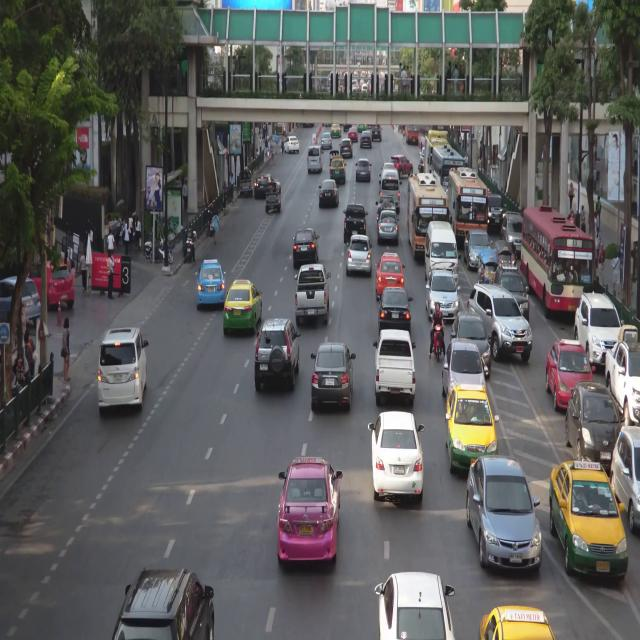bus: (522, 207, 596, 319), (406, 173, 451, 261), (448, 167, 489, 250), (432, 145, 468, 204), (418, 129, 448, 174)
car: (466, 452, 546, 577), (117, 567, 216, 640), (371, 570, 453, 640), (469, 279, 533, 361), (369, 410, 424, 503), (566, 381, 619, 468), (98, 325, 147, 417), (604, 326, 640, 420), (256, 317, 300, 390), (578, 295, 620, 370), (375, 333, 418, 403), (313, 336, 351, 414), (614, 423, 640, 527), (26, 252, 73, 309), (443, 343, 487, 402), (451, 313, 490, 375), (494, 263, 532, 326), (425, 223, 460, 283), (0, 274, 40, 326), (296, 264, 331, 320), (379, 284, 413, 334), (425, 271, 458, 317), (292, 223, 320, 265), (503, 206, 524, 261), (465, 229, 492, 271), (345, 200, 369, 241), (346, 235, 372, 272), (493, 239, 514, 283), (477, 248, 498, 290), (377, 203, 398, 243), (487, 190, 507, 232), (381, 173, 400, 213), (266, 183, 285, 217), (255, 173, 279, 198), (353, 157, 373, 185), (392, 154, 414, 178), (306, 146, 323, 175), (238, 167, 254, 195), (320, 182, 339, 204), (282, 134, 300, 154), (381, 160, 396, 180), (339, 140, 354, 158), (361, 131, 372, 149), (371, 123, 382, 141), (348, 127, 358, 142), (322, 134, 332, 148)
pedestrian: (61, 316, 73, 386), (612, 249, 624, 297), (24, 332, 34, 379), (106, 254, 116, 300), (80, 249, 90, 293), (598, 241, 606, 289), (211, 210, 221, 248), (134, 211, 143, 253), (107, 230, 118, 260), (180, 177, 189, 210), (123, 218, 131, 255), (567, 180, 575, 213), (69, 259, 78, 285), (127, 214, 135, 240), (595, 228, 602, 256), (230, 171, 236, 202), (580, 200, 587, 226), (597, 193, 602, 229), (223, 180, 228, 213), (63, 248, 70, 267)
taxi: (549, 456, 627, 581), (280, 456, 339, 570), (447, 384, 500, 477), (472, 597, 558, 640), (547, 336, 594, 409), (224, 279, 260, 334), (374, 248, 405, 299), (198, 262, 226, 307), (330, 157, 347, 185), (331, 122, 342, 138)
